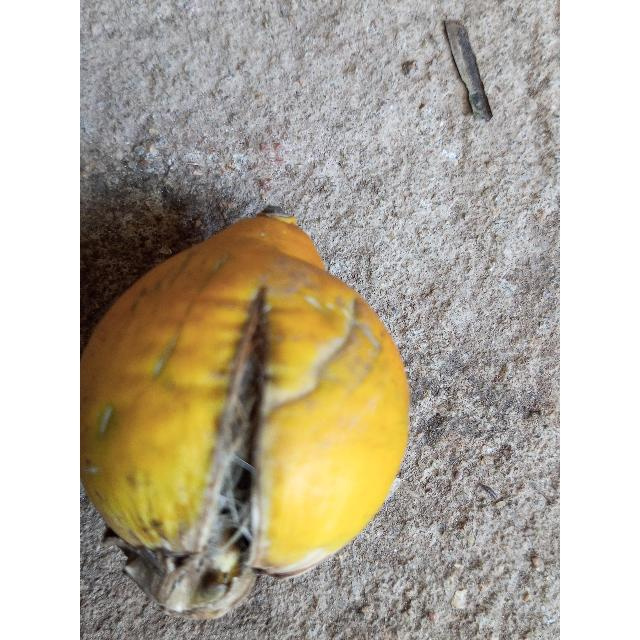damaged: (80, 215, 410, 622)
